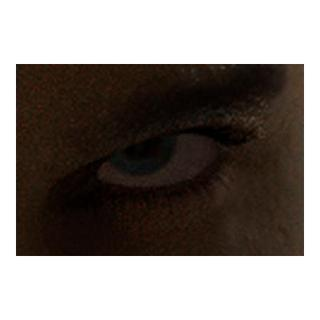pupil: (121, 120, 156, 154)
